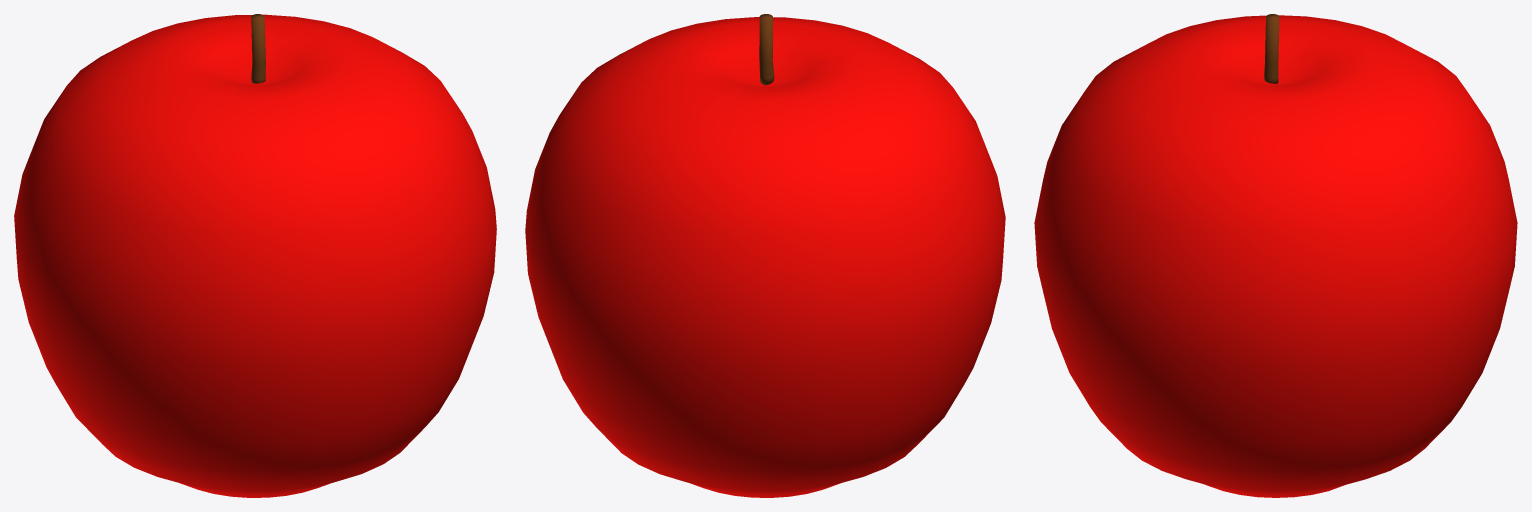
Rendered from RedApple.fbx.
3 renders of one model, left to right at view 1: azimuth 30°, elevation 25°; view 2: azimuth 150°, elevation 25°; view 3: azimuth 270°, elevation 25°, orthographic.
Visible parts, largest first — view 1: Sphere, Cylinder; view 2: Sphere, Cylinder; view 3: Sphere, Cylinder.
Part boxes in pixels (x1=…): Sphere: x1=14, y1=14, x2=496, y2=497; Cylinder: x1=251, y1=14, x2=265, y2=83; Sphere: x1=525, y1=17, x2=1005, y2=497; Cylinder: x1=759, y1=14, x2=774, y2=85; Sphere: x1=1034, y1=15, x2=1517, y2=497; Cylinder: x1=1264, y1=14, x2=1279, y2=83.
Bounding box in the file's own units: 196 × 199 × 196.
